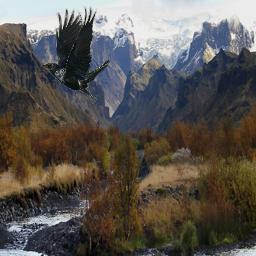Crow: (40, 5, 111, 107)
